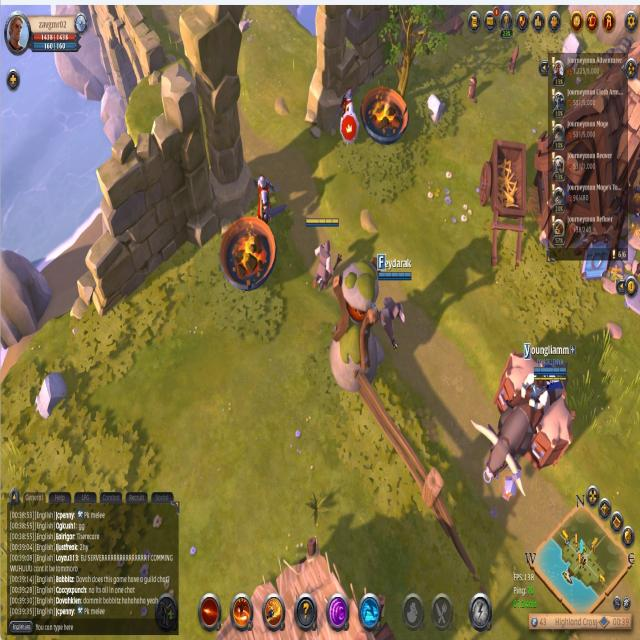stone: (31, 372, 69, 423), (560, 31, 585, 75), (426, 87, 448, 128)
